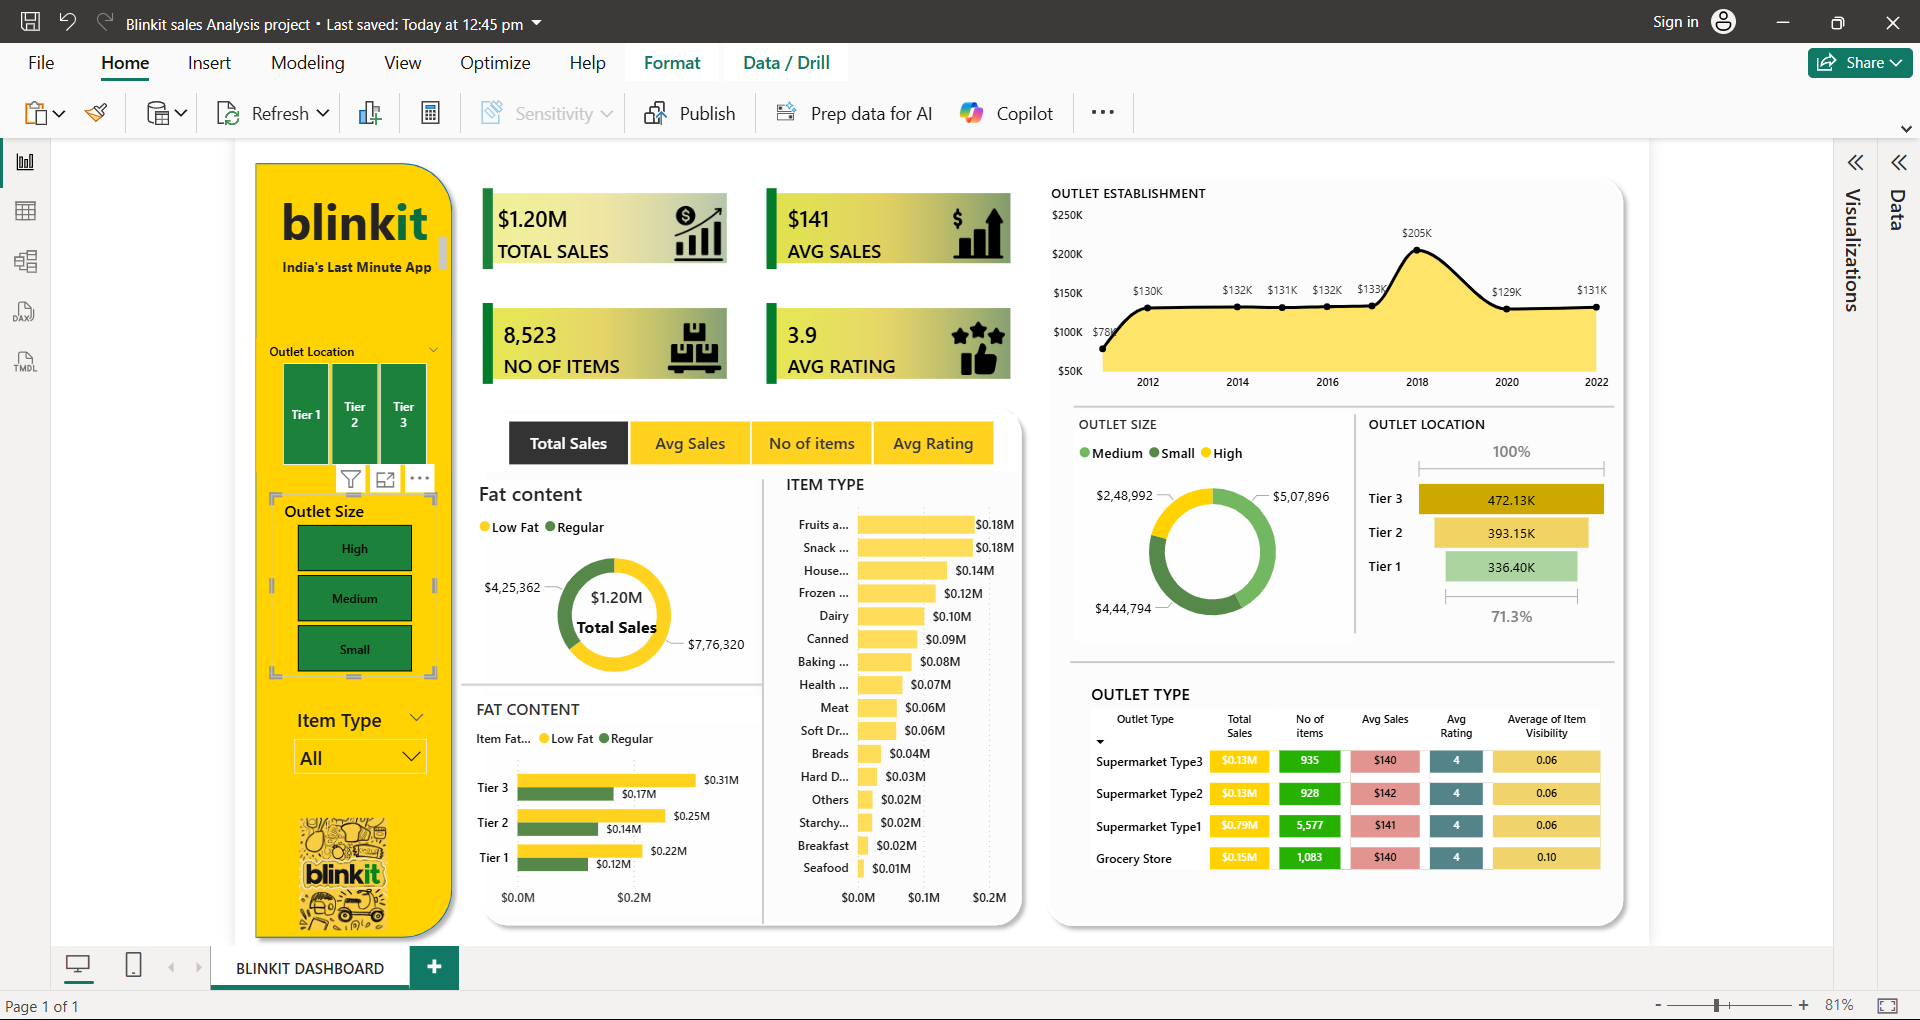

Layout of this report page (visuals, bound fields, positions):
{"tool":"powerbi","page":{"name":"BLINKIT DASHBOARD","canvas":[1400,800],"ordinal":0},"visuals":[{"type":"shape","box":[11.4,15.7,212.9,784.3],"z":0},{"type":"textbox","box":[22.8,44.2,191.7,95.2],"z":1000},{"type":"textbox","box":[36.2,92.5,178.3,46.9],"z":2000},{"type":"cardVisual","fields":{"Data":["BlinkIT Grocery Data.Total Sales","BlinkIT Grocery Data.Avg Sales","BlinkIT Grocery Data.No of items","BlinkIT Grocery Data.Avg Rating"]},"box":[225.2,29.5,568.4,235.9],"z":3000},{"type":"shape","box":[234.6,258.7,552.3,529.5],"z":4000},{"type":"donutChart","title":"Fat content","fields":{"Y":["BlinkIT Grocery Data.Total Sales"],"Category":["BlinkIT Grocery Data.Item Fat Content"]},"box":[235.7,337.1,278.6,212.9],"z":5000},{"type":"slicer","fields":{"Values":["Metrics.Metrics"]},"box":[245.3,273.5,529.5,56.3],"z":6000},{"type":"cardVisual","fields":{"Data":["BlinkIT Grocery Data.Total Sales"]},"box":[314.3,422.9,127.1,91.4],"z":7000},{"type":"clusteredBarChart","title":"FAT CONTENT","fields":{"Y":["BlinkIT Grocery Data.Total Sales"],"Category":["BlinkIT Grocery Data.Outlet Location Type"],"Series":["BlinkIT Grocery Data.Item Fat Content"]},"box":[234.3,552.9,288.6,217.1],"z":8000},{"type":"shape","box":[224.3,514.3,298.6,52.9],"z":9000},{"type":"shape","box":[514.3,337.1,15.7,440],"z":10000},{"type":"barChart","title":"ITEM TYPE","fields":{"Y":["BlinkIT Grocery Data.Total Sales"],"Category":["BlinkIT Grocery Data.Item Type"]},"box":[540,330,252.9,440],"z":11000},{"type":"shape","box":[793.6,29.5,588.5,758.7],"z":12000},{"type":"lineChart","title":"OUTLET ESTABLISHMENT","fields":{"Y":["BlinkIT Grocery Data.Total Sales"],"Category":["BlinkIT Grocery Data.Outlet Establishment Year"]},"box":[802.7,44.5,561.5,214],"z":13000},{"type":"shape","box":[829.8,258.7,534.9,14.7],"z":14000},{"type":"donutChart","title":"OUTLET SIZE","fields":{"Y":["BlinkIT Grocery Data.Total Sales"],"Category":["BlinkIT Grocery Data.Outlet Size"]},"box":[829.8,273.5,275,225],"z":15000},{"type":"shape","box":[1099.2,273.5,17.4,217.2],"z":16000},{"type":"shape","box":[825.7,514.7,538.9,8],"z":17000},{"type":"funnel","title":"OUTLET LOCATION","fields":{"Y":["Sum(BlinkIT Grocery Data.Sales)"],"Category":["BlinkIT Grocery Data.Outlet Location Type"]},"box":[1116.6,273.5,248,217.2],"z":18000},{"type":"pivotTable","title":"OUTLET TYPE","fields":{"Rows":["BlinkIT Grocery Data.Outlet Type"],"Values":["BlinkIT Grocery Data.Total Sales","BlinkIT Grocery Data.No of items","BlinkIT Grocery Data.Avg Sales","BlinkIT Grocery Data.Avg Rating","Avg(BlinkIT Grocery Data.Item Visibility)"]},"box":[841.8,537.5,525.5,239.9],"z":19000},{"type":"slicer","fields":{"Values":["BlinkIT Grocery Data.Outlet Location Type"]},"box":[21.4,198.4,193,132.7],"z":20000},{"type":"slicer","fields":{"Values":["BlinkIT Grocery Data.Outlet Size"]},"box":[36.2,352.5,163.5,182.3],"z":21000},{"type":"slicer","fields":{"Values":["BlinkIT Grocery Data.Item Type"]},"box":[48.3,557.6,151.5,104.6],"z":22000},{"type":"image","box":[0,667.6,214.5,120.6],"z":23000}]}

Visuals, with their boxes on the page's 1400x800 design canvas (x1, y1, x2, y2). These are canvas units, not pixel positions in the 1920x1020 screenshot, which may show the page scaled, cropped or inside an application window:
shape: (11,16,224,800)
textbox: (23,44,214,139)
textbox: (36,92,214,139)
cardVisual - BlinkIT Grocery Data.Total Sales x BlinkIT Grocery Data.Avg Sales: (225,30,794,265)
shape: (235,259,787,788)
"Fat content" donutChart: (236,337,514,550)
slicer - Metrics.Metrics: (245,274,775,330)
cardVisual - BlinkIT Grocery Data.Total Sales: (314,423,441,514)
"FAT CONTENT" clusteredBarChart: (234,553,523,770)
shape: (224,514,523,567)
shape: (514,337,530,777)
"ITEM TYPE" barChart: (540,330,793,770)
shape: (794,30,1382,788)
"OUTLET ESTABLISHMENT" lineChart: (803,44,1364,258)
shape: (830,259,1365,273)
"OUTLET SIZE" donutChart: (830,274,1105,498)
shape: (1099,274,1117,491)
shape: (826,515,1365,523)
"OUTLET LOCATION" funnel: (1117,274,1365,491)
"OUTLET TYPE" pivotTable: (842,538,1367,777)
slicer - BlinkIT Grocery Data.Outlet Location Type: (21,198,214,331)
slicer - BlinkIT Grocery Data.Outlet Size: (36,352,200,535)
slicer - BlinkIT Grocery Data.Item Type: (48,558,200,662)
image: (0,668,214,788)
